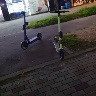beam: (18, 10, 44, 51)
gcooter: (48, 9, 71, 62)
